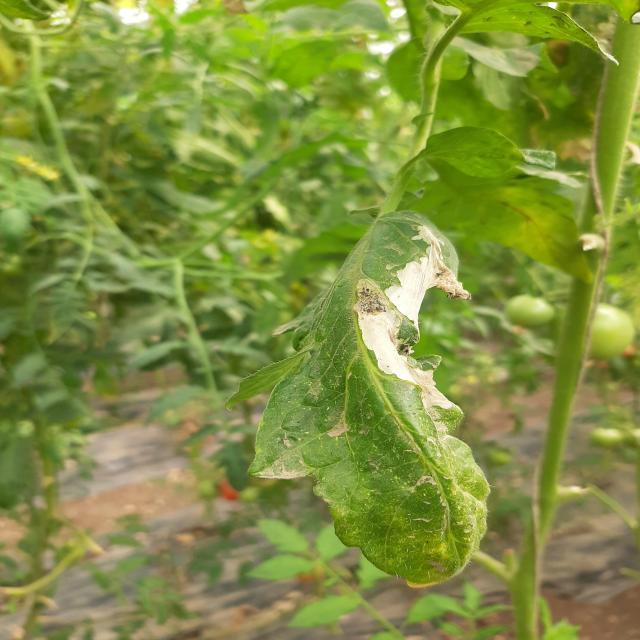Tuta absoluta: (348, 292, 458, 428), (367, 224, 473, 330)
